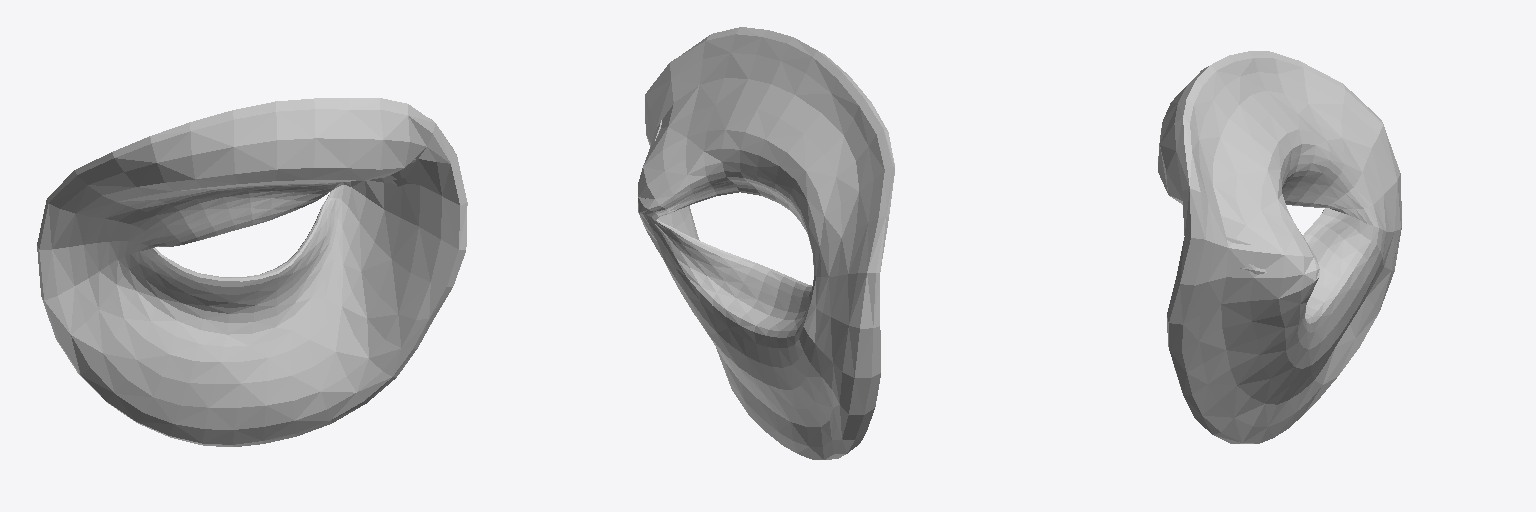
File: orbicularis_oculi_right.obj
The picture shows the model from 3 angles: view 1: azimuth 30°, elevation 25°; view 2: azimuth 150°, elevation 25°; view 3: azimuth 270°, elevation 25°; orthographic projection.
Parts seen in each view (by area): view 1: Orbicularis_Oculi_Muscle_Right; view 2: Orbicularis_Oculi_Muscle_Right; view 3: Orbicularis_Oculi_Muscle_Right.
Part boxes in pixels (x1,y1,x2,y2): Orbicularis_Oculi_Muscle_Right: (37,98,467,446); Orbicularis_Oculi_Muscle_Right: (638,27,894,459); Orbicularis_Oculi_Muscle_Right: (1158,51,1401,443).
Bounding box in the file's own units: 0.6237 × 0.667 × 0.4014.